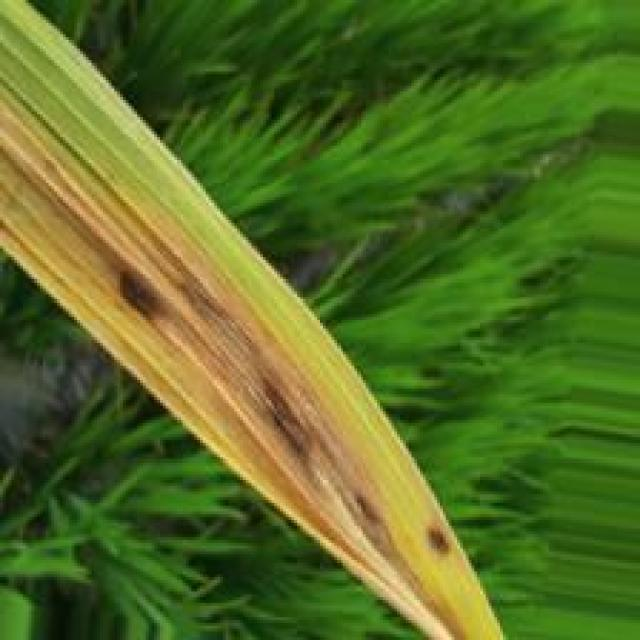Leaf_Blast: (172, 271, 265, 379), (255, 371, 329, 485), (114, 270, 181, 329), (348, 491, 389, 529), (422, 521, 454, 568)
